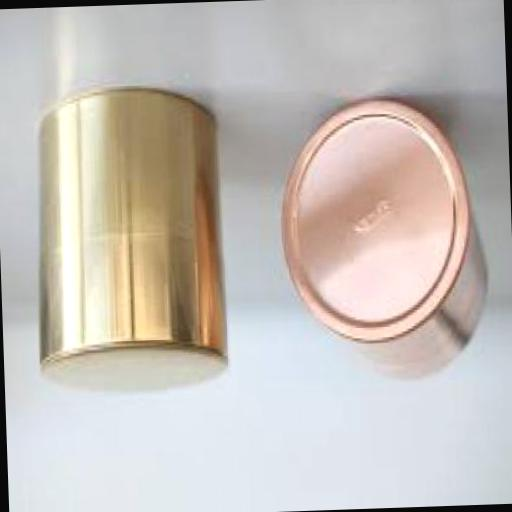metal: (280, 98, 492, 390), (32, 94, 229, 399)
